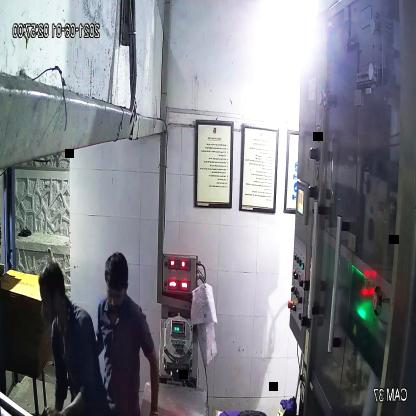no_goggles: (105, 284, 127, 304)
